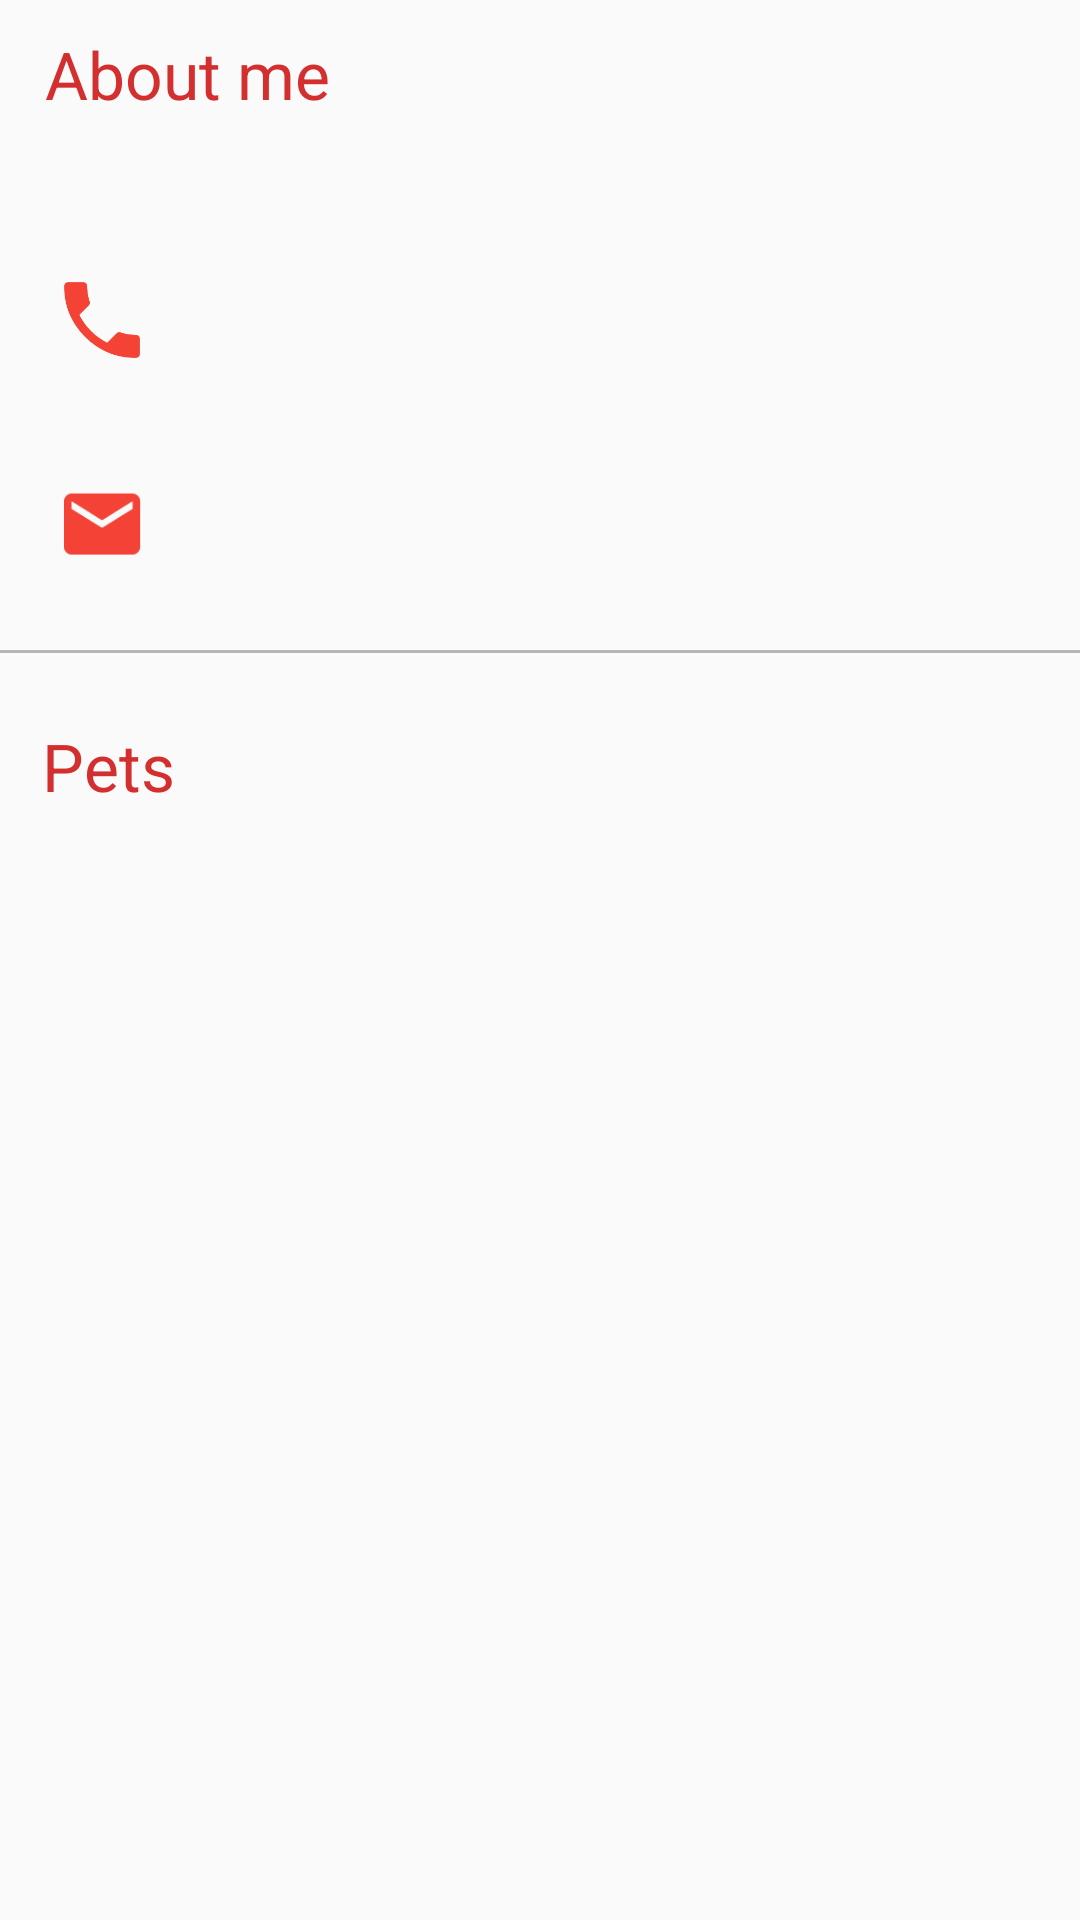

Icon click points for this 1080px x 1920px phone screenshot, format (x=x, y=y):
email: (x=102, y=524)
phone: (x=102, y=320)
